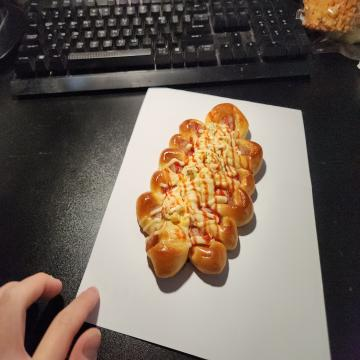pizza_bread: (136, 104, 264, 283)
